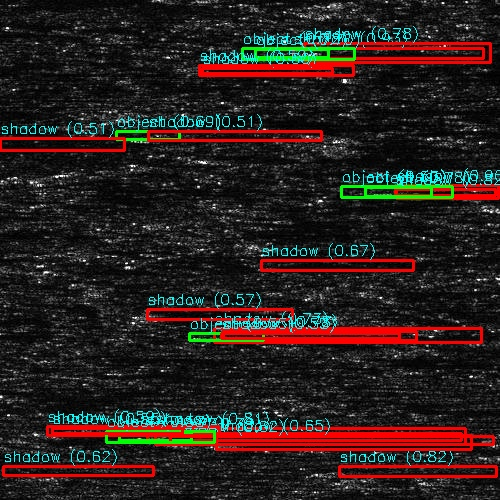rock: (0, 459, 77, 486), (337, 184, 442, 201), (239, 48, 344, 59), (104, 432, 197, 441), (304, 466, 377, 475), (189, 333, 242, 338), (32, 431, 63, 434), (482, 10, 500, 15), (488, 429, 500, 436)
shadow: (0, 459, 210, 486), (151, 432, 440, 441), (292, 48, 500, 59), (390, 184, 500, 201), (341, 466, 500, 475), (216, 333, 500, 338), (48, 431, 118, 434)
